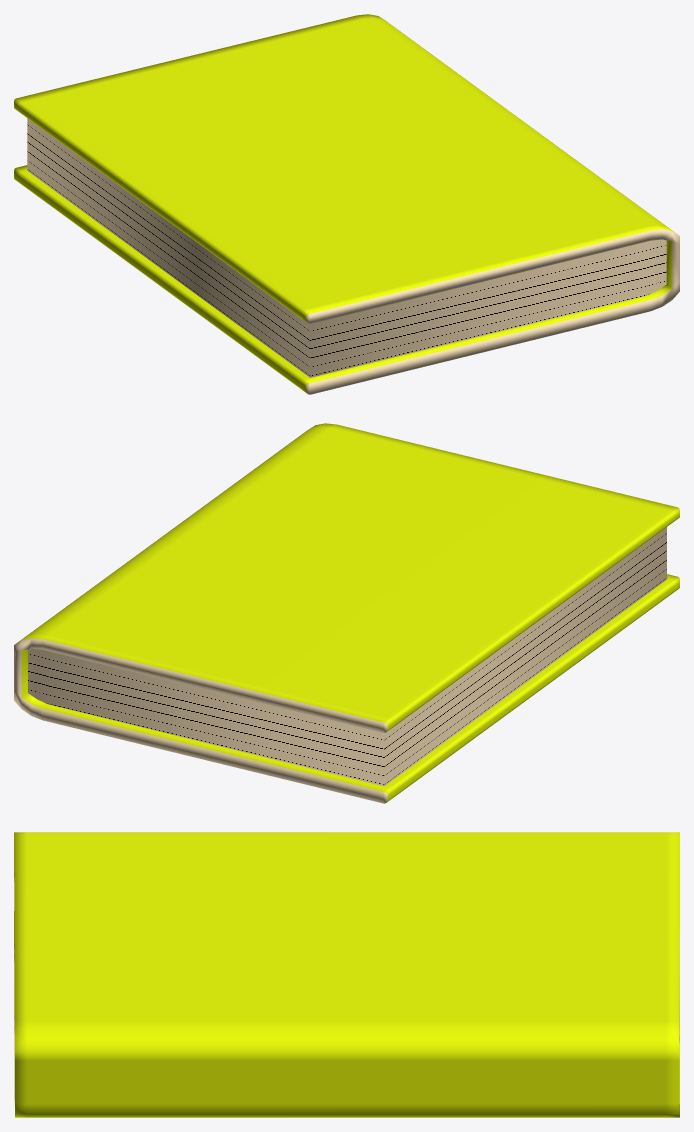
Rendered from book-yellow.fbx.
The picture shows the model from 3 angles, top to bottom: view 1: azimuth 30°, elevation 25°; view 2: azimuth 150°, elevation 25°; view 3: azimuth 270°, elevation 25°; orthographic projection. The views are drawn at different scales.
Parts seen in each view (by area): view 1: book_yellow; view 2: book_yellow; view 3: book_yellow.
Boxes of the visible parts, <box> form: book_yellow: <box>14,14,679,394</box>; book_yellow: <box>14,423,679,803</box>; book_yellow: <box>14,832,679,1117</box>.
Bounding box in the file's own units: 8.66 × 1.79 × 11.81.
1 material, 1 textured.
